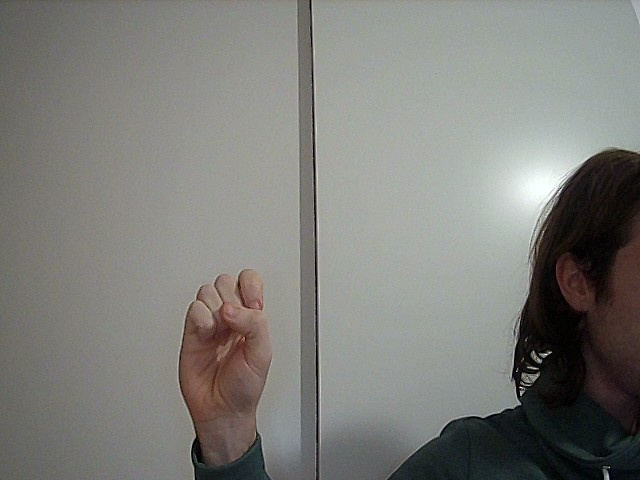s: (166, 256, 291, 420)
